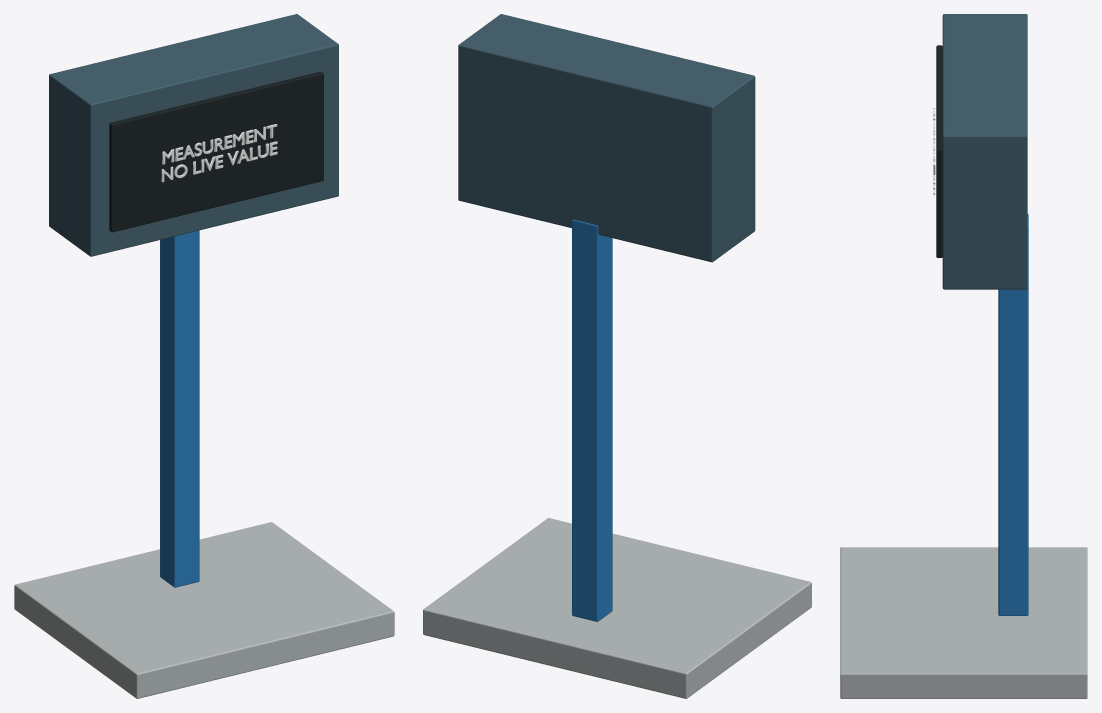
File: numeric_measurement_display.glb
3 views of the same model, side by side, from view 1: azimuth 30°, elevation 25°; view 2: azimuth 150°, elevation 25°; view 3: azimuth 270°, elevation 25° (orthographic). The views are drawn at different scales.
Parts seen in each view (by area): view 1: STATIC_READOUT_base, STATIC_READOUT_housing, STATIC_READOUT_screen, STATIC_READOUT_mast, STATIC_READOUT_static_legend; view 2: STATIC_READOUT_housing, STATIC_READOUT_base, STATIC_READOUT_mast; view 3: STATIC_READOUT_base, STATIC_READOUT_housing, STATIC_READOUT_mast, STATIC_READOUT_screen.
Boxes of the visible parts, bbox=[...] form: STATIC_READOUT_base: bbox=[14, 522, 394, 698]; STATIC_READOUT_housing: bbox=[49, 14, 338, 256]; STATIC_READOUT_screen: bbox=[109, 71, 323, 232]; STATIC_READOUT_mast: bbox=[160, 230, 199, 587]; STATIC_READOUT_static_legend: bbox=[161, 124, 277, 182]; STATIC_READOUT_housing: bbox=[458, 14, 755, 262]; STATIC_READOUT_base: bbox=[423, 518, 811, 698]; STATIC_READOUT_mast: bbox=[572, 219, 612, 621]; STATIC_READOUT_base: bbox=[840, 547, 1087, 698]; STATIC_READOUT_housing: bbox=[942, 14, 1027, 289]; STATIC_READOUT_mast: bbox=[998, 213, 1028, 615]; STATIC_READOUT_screen: bbox=[936, 45, 942, 257].
Bounding box in the file's own units: 0.85 × 1.75 × 0.7.
